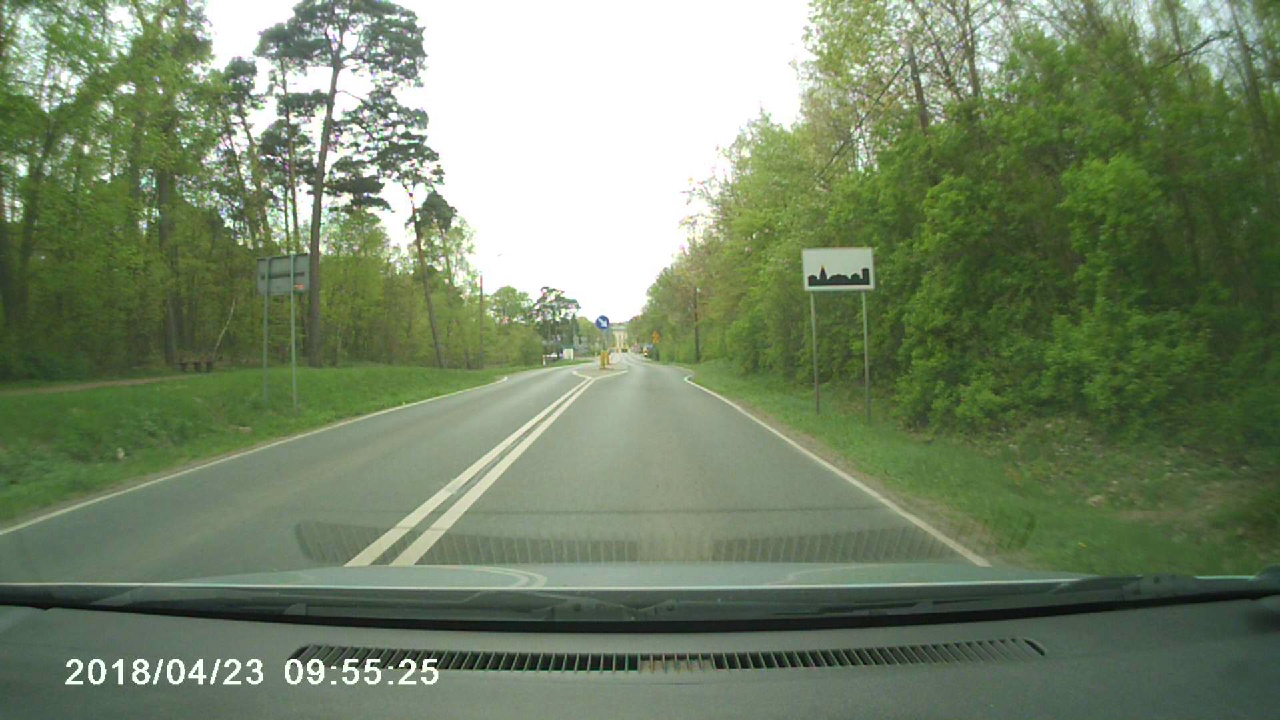D42: (800, 246, 877, 290)
